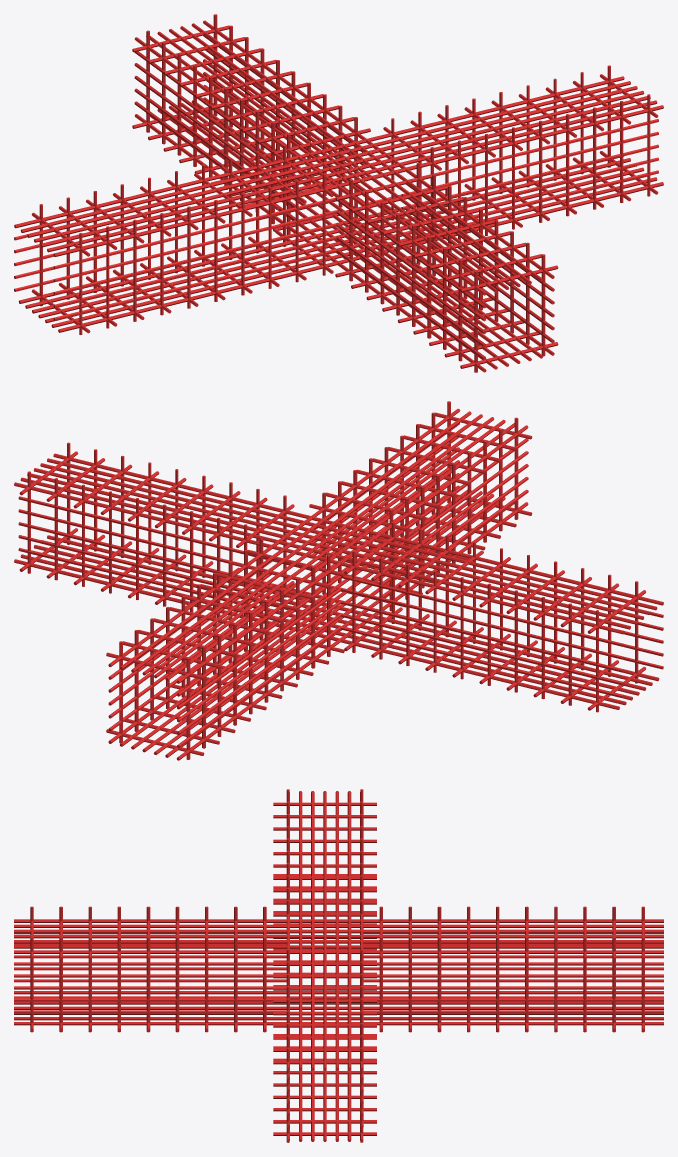
File: Cross.gltf
3 renders of one model, top to bottom at view 1: azimuth 30°, elevation 25°; view 2: azimuth 150°, elevation 25°; view 3: azimuth 270°, elevation 25°, orthographic. The views are drawn at different scales.
Parts seen in each view (by area): view 1: Cross; view 2: Cross; view 3: Cross.
Part boxes in pixels (<box>): Cross: <box>14,14,663,372</box>; Cross: <box>14,401,663,760</box>; Cross: <box>14,789,663,1142</box>.
Size of the model in its own units: 215 by 33.98 by 213.
